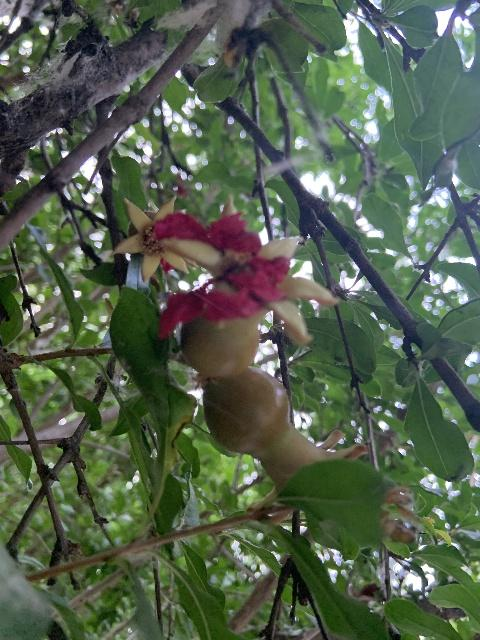early-fruit: (157, 195, 338, 378), (205, 368, 367, 510), (113, 195, 196, 282)
